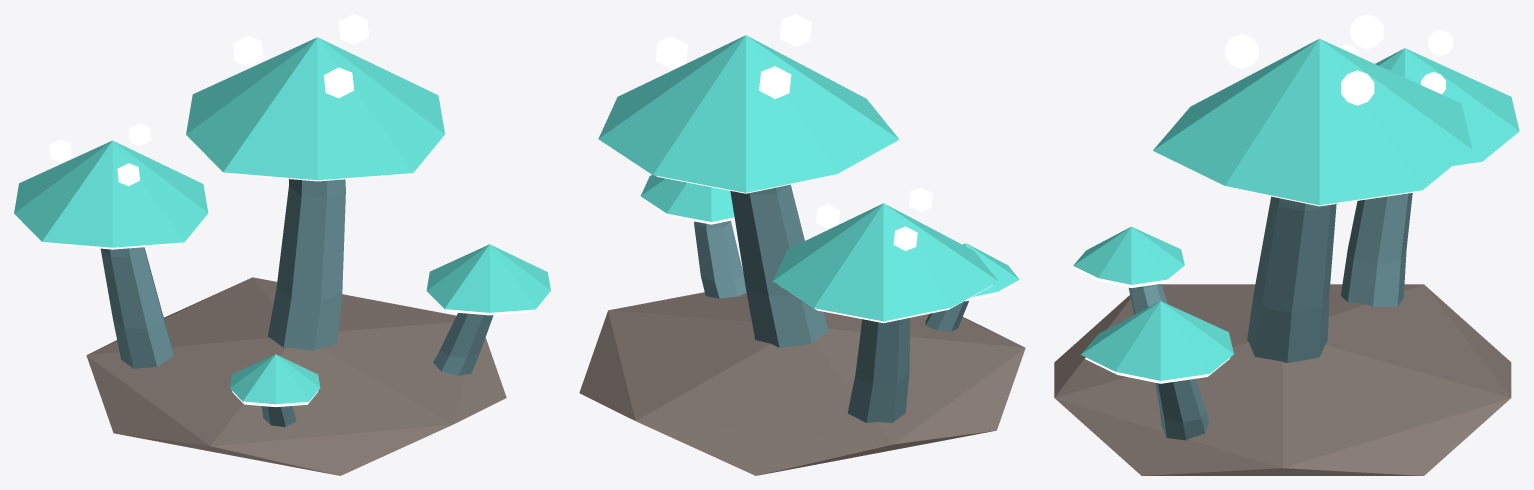
The model's file is mine_mushroom.glb.
3 renders of one model, left to right at view 1: azimuth 30°, elevation 25°; view 2: azimuth 150°, elevation 25°; view 3: azimuth 270°, elevation 25°, orthographic. The views are drawn at different scales.
Parts seen in each view (by area): view 1: Mushroom_Caps, Mushroom_Ground, Mushroom_Stalks, Mushroom_Spots, Mushroom_Gills; view 2: Mushroom_Caps, Mushroom_Ground, Mushroom_Stalks, Mushroom_Spots, Mushroom_Gills; view 3: Mushroom_Ground, Mushroom_Caps, Mushroom_Stalks, Mushroom_Spots, Mushroom_Gills.
Part boxes in pixels (box(x1,y1,x2,y2)): Mushroom_Caps: box(14, 37, 550, 404); Mushroom_Ground: box(86, 277, 506, 475); Mushroom_Stalks: box(100, 179, 493, 426); Mushroom_Spots: box(49, 14, 368, 186); Mushroom_Gills: box(44, 172, 535, 407); Mushroom_Caps: box(598, 35, 1019, 321); Mushroom_Ground: box(579, 292, 1025, 475); Mushroom_Stalks: box(694, 184, 968, 422); Mushroom_Spots: box(655, 14, 932, 250); Mushroom_Gills: box(644, 174, 1016, 323); Mushroom_Ground: box(1054, 284, 1511, 475); Mushroom_Caps: box(1073, 38, 1519, 380); Mushroom_Stalks: box(1128, 193, 1412, 440); Mushroom_Spots: box(1225, 14, 1452, 105); Mushroom_Gills: box(1076, 162, 1480, 383).
Bounding box in the file's own units: 2.24 × 1.7 × 1.91.
